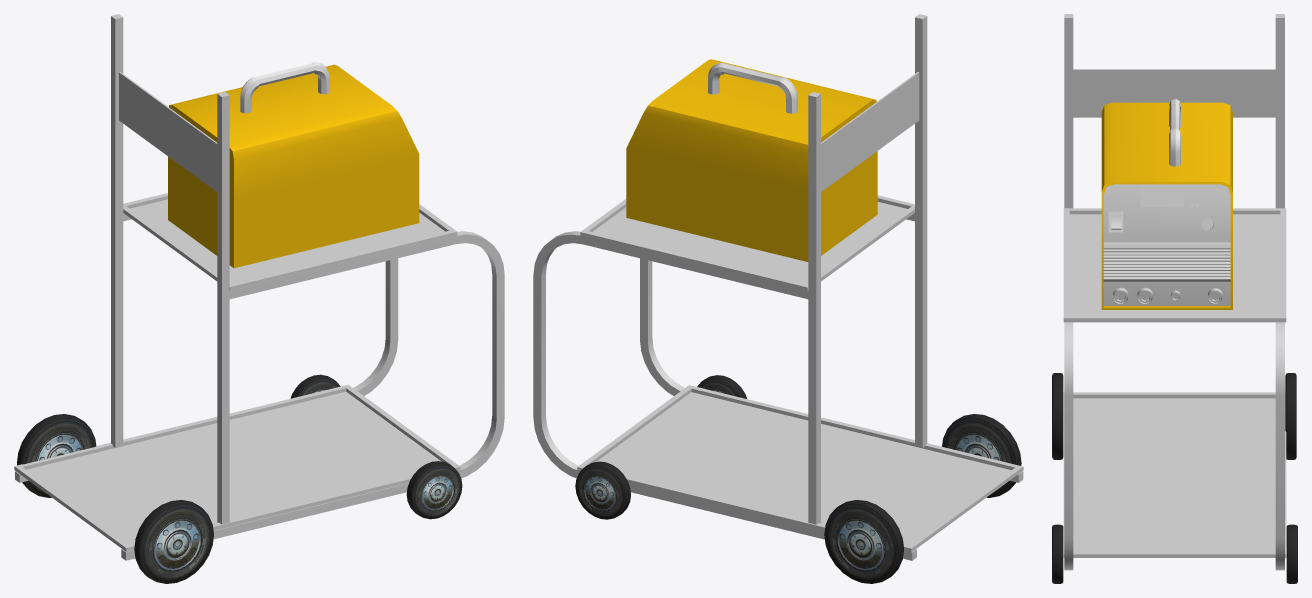
File: TIG _Machine.fbx
3 renders of one model, left to right at view 1: azimuth 30°, elevation 25°; view 2: azimuth 150°, elevation 25°; view 3: azimuth 270°, elevation 25°, orthographic.
Visible parts, largest first — view 1: TIG_Frame_02, TIG _01, TIG_Frame_01, Wheels, TIG _02; view 2: TIG_Frame_02, TIG _01, TIG_Frame_01, Wheels, TIG _02; view 3: TIG_Frame_02, TIG_Frame_01, TIG _01, TIG _03, TIG _04, Wheels, TIG_Display, TIG _02, TIG_Cable_In_02, TIG_Cable_In_01.
Boxes of the visible parts, bbox=[...] form: TIG_Frame_02: bbox=[14, 193, 460, 551]; TIG _01: bbox=[168, 64, 419, 268]; TIG_Frame_01: bbox=[15, 14, 504, 560]; Wheels: bbox=[17, 374, 462, 583]; TIG _02: bbox=[240, 62, 329, 113]; TIG_Frame_02: bbox=[577, 195, 1023, 552]; TIG _01: bbox=[626, 59, 877, 261]; TIG_Frame_01: bbox=[533, 14, 1023, 560]; Wheels: bbox=[575, 375, 1021, 583]; TIG _02: bbox=[708, 62, 797, 113]; TIG_Frame_02: bbox=[1063, 208, 1286, 557]; TIG_Frame_01: bbox=[1064, 14, 1284, 570]; TIG _01: bbox=[1101, 102, 1232, 309]; TIG _03: bbox=[1103, 184, 1230, 305]; TIG _04: bbox=[1103, 242, 1230, 281]; Wheels: bbox=[1052, 373, 1297, 583]; TIG_Display: bbox=[1140, 187, 1184, 207]; TIG _02: bbox=[1169, 98, 1180, 166]; TIG_Cable_In_02: bbox=[1114, 290, 1221, 303]; TIG_Cable_In_01: bbox=[1113, 287, 1222, 304].
Bounding box in the file's own units: 118 × 140 × 66.73.
2 materials, 1 textured.
